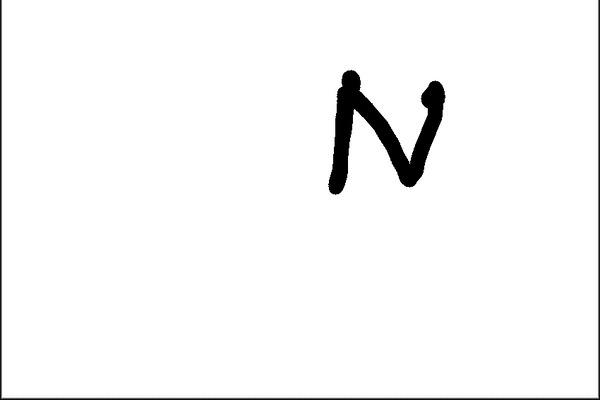N: (320, 63, 448, 197)
